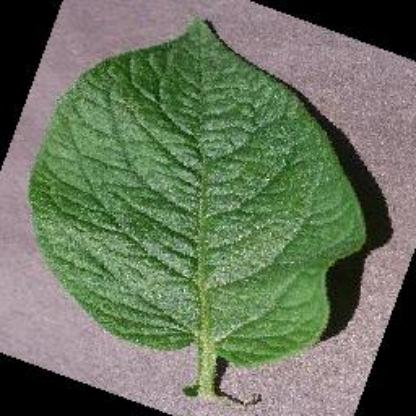Healthy-plant: (18, 14, 384, 388)
